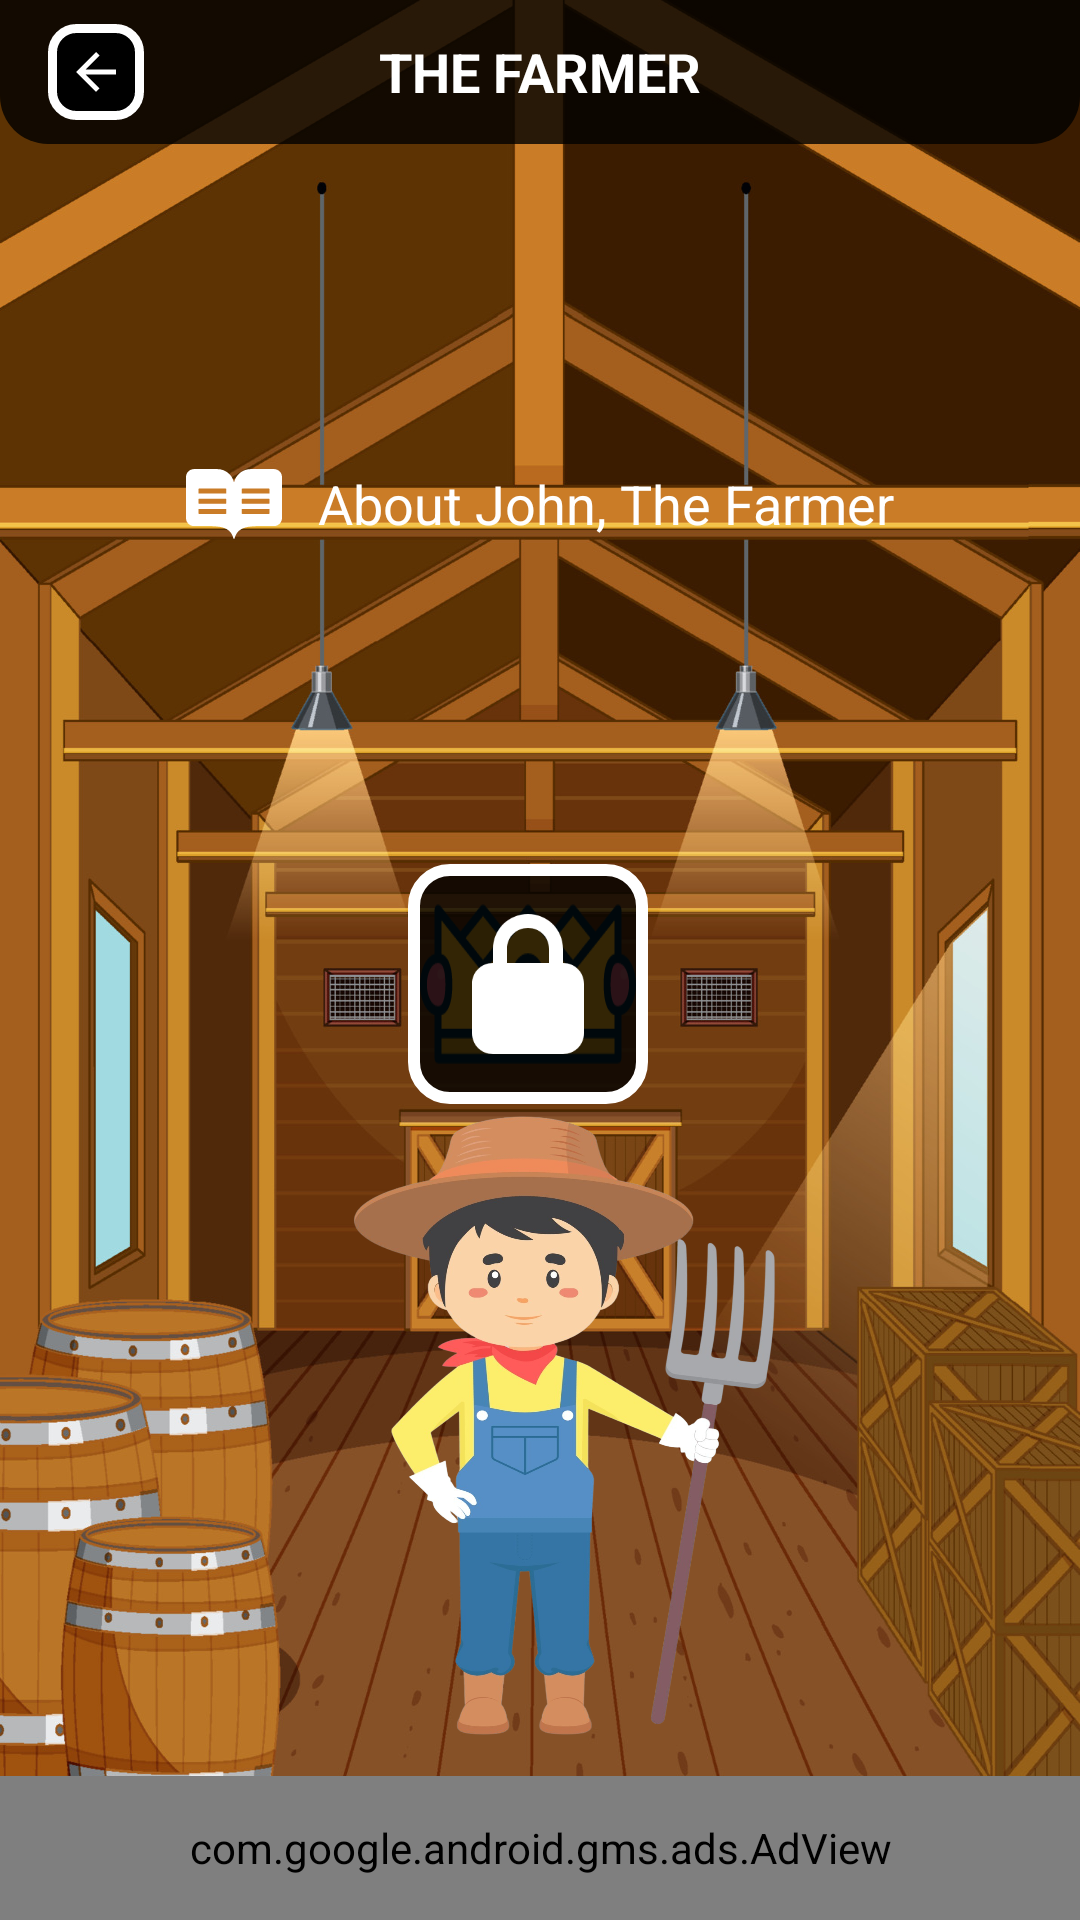

Point at icon controls on the screen. Image size 1080px x 1920px, points as (x,y).
Back button for closing FarmerFragment: (96,72)
settings about: (234,504)
